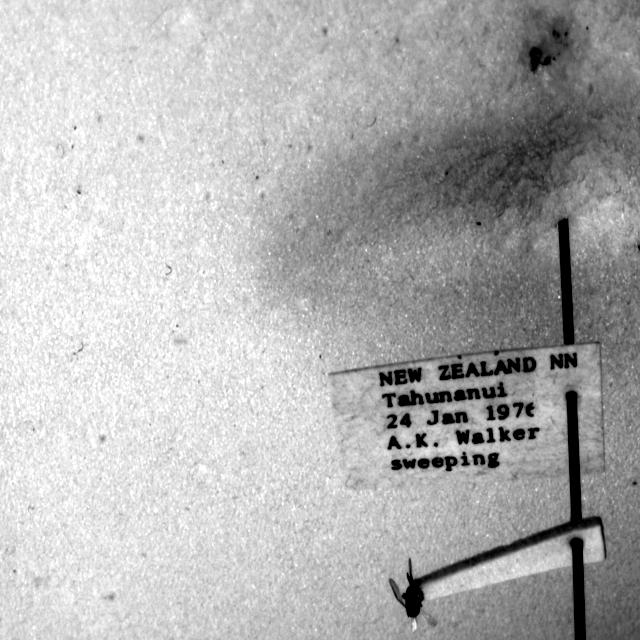typed_label: (329, 343, 605, 489)
